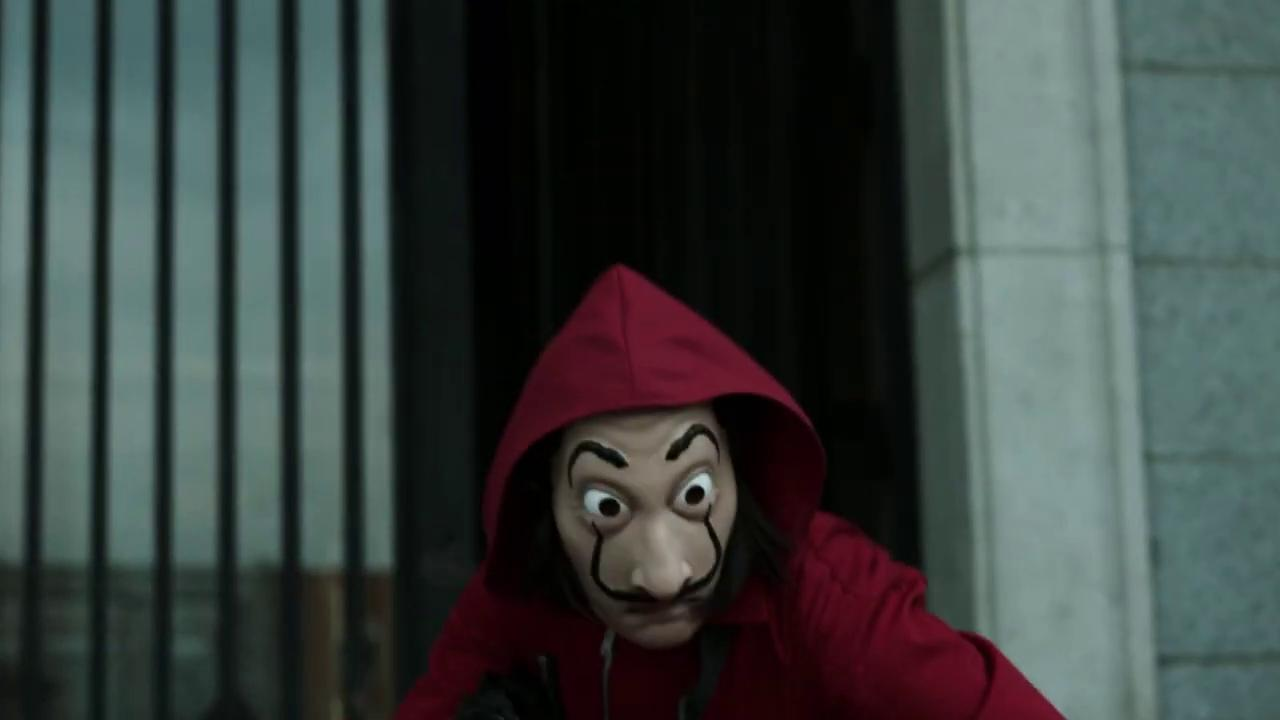criminal: (397, 267, 1070, 720)
